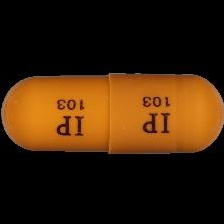42254-112: (0, 0, 224, 224)
